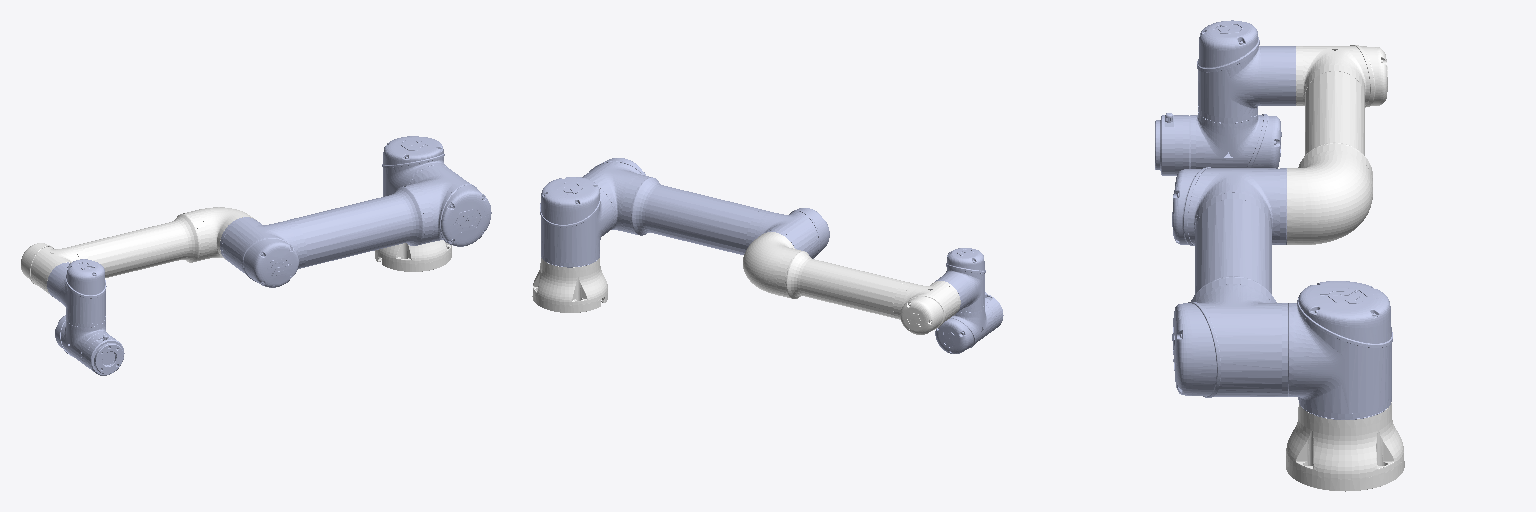
robot.urdf — robot_simulation:
<?xml version="1.0" encoding="utf-8"?>
<!-- This URDF was automatically created by SolidWorks to URDF Exporter! Originally created by Stephen Brawner (brawner@gmail.com) 
     Commit Version: 1.6.0-4-g7f85cfe  Build Version: 1.6.7995.38578
     For more information, please see http://wiki.ros.org/sw_urdf_exporter -->
<robot
  name="robot_simulation">
  <link
    name="base_link">
    <inertial>
      <origin
        xyz="-0.00060368 1.4129E-05 0.060221"
        rpy="0 0 0" />
      <mass
        value="0.57127" />
      <inertia
        ixx="0.0010759"
        ixy="7.5147E-08"
        ixz="-1.3218E-05"
        iyy="0.0010109"
        iyz="4.5643E-07"
        izz="0.001408" />
    </inertial>
    <visual>
      <origin
        xyz="0 0 0"
        rpy="0 0 0" />
      <geometry>
        <mesh
          filename="package://robot_simulation/meshes_robot3/base_link.STL" />
      </geometry>
      <material
        name="">
        <color
          rgba="1 1 1 1" />
      </material>
    </visual>
    <collision>
      <origin
        xyz="0 0 0"
        rpy="0 0 0" />
      <geometry>
        <mesh
          filename="package://robot_simulation/meshes_robot3/base_link.STL" />
      </geometry>
    </collision>
  </link>
  <link
    name="Link_1">
    <inertial>
      <origin
        xyz="-4.5001E-06 -0.0077343 0.00090439"
        rpy="0 0 0" />
      <mass
        value="1.7991" />
      <inertia
        ixx="0.0035369"
        ixy="-1.3483E-07"
        ixz="1.3731E-07"
        iyy="0.0032873"
        iyz="0.00042036"
        izz="0.0035585" />
    </inertial>
    <visual>
      <origin
        xyz="0 0 0"
        rpy="0 0 0" />
      <geometry>
        <mesh
          filename="package://robot_simulation/meshes_robot3/Link_1.STL" />
      </geometry>
      <material
        name="">
        <color
          rgba="0.79216 0.81961 0.93333 1" />
      </material>
    </visual>
    <collision>
      <origin
        xyz="0 0 0"
        rpy="0 0 0" />
      <geometry>
        <mesh
          filename="package://robot_simulation/meshes_robot3/Link_1.STL" />
      </geometry>
    </collision>
  </link>
  <joint
    name="joint_1"
    type="continuous">
    <origin
      xyz="0 0 0.1625"
      rpy="0 0 0" />
    <parent
      link="base_link" />
    <child
      link="Link_1" />
    <axis
      xyz="0 0 1" />
  </joint>
  <link
    name="Link_2">
    <inertial>
      <origin
        xyz="-0.1892 7.303E-07 0.14184"
        rpy="0 0 0" />
      <mass
        value="5.2713" />
      <inertia
        ixx="0.0078027"
        ixy="1.5768E-07"
        ixz="0.00022048"
        iyy="0.024036"
        iyz="-8.9585E-08"
        izz="0.023861" />
    </inertial>
    <visual>
      <origin
        xyz="0 0 0"
        rpy="0 0 0" />
      <geometry>
        <mesh
          filename="package://robot_simulation/meshes_robot3/Link_2.STL" />
      </geometry>
      <material
        name="">
        <color
          rgba="0.79216 0.81961 0.93333 1" />
      </material>
    </visual>
    <collision>
      <origin
        xyz="0 0 0"
        rpy="0 0 0" />
      <geometry>
        <mesh
          filename="package://robot_simulation/meshes_robot3/Link_2.STL" />
      </geometry>
    </collision>
  </link>
  <joint
    name="joint_2"
    type="continuous">
    <origin
      xyz="0 0 0"
      rpy="1.5708 0 0" />
    <parent
      link="Link_1" />
    <child
      link="Link_2" />
    <axis
      xyz="0 0 1" />
  </joint>
  <link
    name="Link_3">
    <inertial>
      <origin
        xyz="-0.18281 3.2527E-06 -0.047348"
        rpy="0 0 0" />
      <mass
        value="2.7304" />
      <inertia
        ixx="0.0026069"
        ixy="-4.3276E-08"
        ixz="-0.00014399"
        iyy="0.010566"
        iyz="1.08E-07"
        izz="0.010407" />
    </inertial>
    <visual>
      <origin
        xyz="0 0 0"
        rpy="0 0 0" />
      <geometry>
        <mesh
          filename="package://robot_simulation/meshes_robot3/Link_3.STL" />
      </geometry>
      <material
        name="">
        <color
          rgba="1 1 1 1" />
      </material>
    </visual>
    <collision>
      <origin
        xyz="0 0 0"
        rpy="0 0 0" />
      <geometry>
        <mesh
          filename="package://robot_simulation/meshes_robot3/Link_3.STL" />
      </geometry>
    </collision>
  </link>
  <joint
    name="joint_3"
    type="continuous">
    <origin
      xyz="-0.427 0 0.0628"
      rpy="0 0 0" />
    <parent
      link="Link_2" />
    <child
      link="Link_3" />
    <axis
      xyz="0 0 1" />
  </joint>
  <link
    name="Link_4">
    <inertial>
      <origin
        xyz="2.6409E-06 0.004712 -0.019047"
        rpy="0 0 0" />
      <mass
        value="0.75308" />
      <inertia
        ixx="0.0010195"
        ixy="-1.2546E-08"
        ixz="-2.971E-09"
        iyy="0.00098659"
        iyz="0.00010828"
        izz="0.00059472" />
    </inertial>
    <visual>
      <origin
        xyz="0 0 0"
        rpy="0 0 0" />
      <geometry>
        <mesh
          filename="package://robot_simulation/meshes_robot3/Link_4.STL" />
      </geometry>
      <material
        name="">
        <color
          rgba="0.79216 0.81961 0.93333 1" />
      </material>
    </visual>
    <collision>
      <origin
        xyz="0 0 0"
        rpy="0 0 0" />
      <geometry>
        <mesh
          filename="package://robot_simulation/meshes_robot3/Link_4.STL" />
      </geometry>
    </collision>
  </link>
  <joint
    name="joint_4"
    type="continuous">
    <origin
      xyz="-0.3905 0 0.0847"
      rpy="0 0 0" />
    <parent
      link="Link_3" />
    <child
      link="Link_4" />
    <axis
      xyz="0 0 1" />
  </joint>
  <link
    name="Link_5">
    <inertial>
      <origin
        xyz="-3.5214E-06 -0.006111 -0.0049595"
        rpy="0 0 0" />
      <mass
        value="0.5807" />
      <inertia
        ixx="0.0005059"
        ixy="-8.7655E-09"
        ixz="2.8124E-09"
        iyy="0.0004794"
        iyz="-5.6328E-05"
        izz="0.0004639" />
    </inertial>
    <visual>
      <origin
        xyz="0 0 0"
        rpy="0 0 0" />
      <geometry>
        <mesh
          filename="package://robot_simulation/meshes_robot3/Link_5.STL" />
      </geometry>
      <material
        name="">
        <color
          rgba="0.79216 0.81961 0.93333 1" />
      </material>
    </visual>
    <collision>
      <origin
        xyz="0 0 0"
        rpy="0 0 0" />
      <geometry>
        <mesh
          filename="package://robot_simulation/meshes_robot3/Link_5.STL" />
      </geometry>
    </collision>
  </link>
  <joint
    name="joint_5"
    type="continuous">
    <origin
      xyz="0 -0.0965 0"
      rpy="1.5708 0 0" />
    <parent
      link="Link_4" />
    <child
      link="Link_5" />
    <axis
      xyz="0 0 1" />
  </joint>
  <link
    name="Link_6">
    <inertial>
      <origin
        xyz="-1.7686E-10 -0.00015025 -0.023107"
        rpy="0 0 0" />
      <mass
        value="0.17861" />
      <inertia
        ixx="8.6545E-05"
        ixy="8.1733E-13"
        ixz="6.4355E-13"
        iyy="8.8095E-05"
        iyz="3.2548E-07"
        izz="0.00012597" />
    </inertial>
    <visual>
      <origin
        xyz="0 0 0"
        rpy="0 0 0" />
      <geometry>
        <mesh
          filename="package://robot_simulation/meshes_robot3/Link_6.STL" />
      </geometry>
      <material
        name="">
        <color
          rgba="0.79216 0.81961 0.93333 1" />
      </material>
    </visual>
    <collision>
      <origin
        xyz="0 0 0"
        rpy="0 0 0" />
      <geometry>
        <mesh
          filename="package://robot_simulation/meshes_robot3/Link_6.STL" />
      </geometry>
    </collision>
  </link>
  <joint
    name="joint_6"
    type="continuous">
    <origin
      xyz="0 0.092 0"
      rpy="-1.5708 0 0" />
    <parent
      link="Link_5" />
    <child
      link="Link_6" />
    <axis
      xyz="0 0 1" />
  </joint>
</robot>

--- What the picture shows (computed from the rendered views, not written in the file) ---
3 views of the same robot in one strip: view 1: azimuth 30°, elevation 25°; view 2: azimuth 150°, elevation 25°; view 3: azimuth 270°, elevation 25° (orthographic).
Model robot_simulation with 7 links and 6 joints (6 continuous), rooted at base_link, posed all joints at 0.
Visible links, largest first — view 1: Link_2, Link_3, Link_4, Link_1, base_link, Link_6, Link_5; view 2: Link_2, Link_3, Link_1, base_link, Link_4, Link_5; view 3: Link_2, Link_3, Link_1, Link_4, base_link, Link_5, Link_6.
Link boxes in pixels (bbox=[...]): Link_2: bbox=[220, 165, 491, 287]; Link_3: bbox=[21, 207, 255, 296]; Link_4: bbox=[47, 259, 106, 327]; Link_1: bbox=[382, 136, 446, 196]; base_link: bbox=[375, 240, 451, 271]; Link_6: bbox=[82, 333, 124, 375]; Link_5: bbox=[55, 315, 107, 366]; Link_2: bbox=[582, 158, 829, 258]; Link_3: bbox=[743, 232, 960, 334]; Link_1: bbox=[540, 177, 613, 267]; base_link: bbox=[532, 258, 607, 312]; Link_4: bbox=[931, 248, 985, 312]; Link_5: bbox=[935, 304, 994, 353]; Link_2: bbox=[1172, 167, 1288, 397]; Link_3: bbox=[1287, 45, 1387, 244]; Link_1: bbox=[1289, 281, 1392, 419]; Link_4: bbox=[1197, 20, 1295, 123]; base_link: bbox=[1286, 402, 1404, 491]; Link_5: bbox=[1190, 112, 1281, 168]; Link_6: bbox=[1155, 113, 1189, 175].
Size in the robot's own frame: 0.9322 by 0.3144 by 0.2397 metres.
Meshes: 7 distinct files referenced, 7 mesh visuals loaded (7 binary STL).
